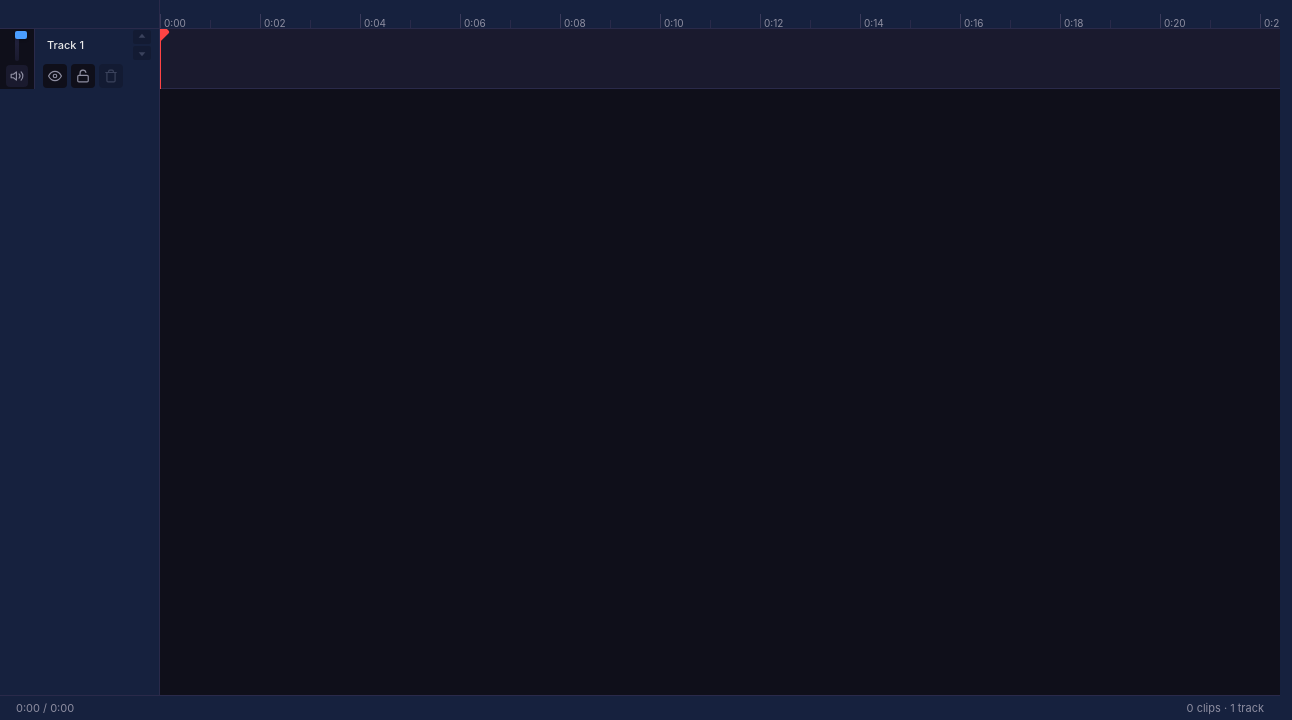
Test case: Timeline - track controls › shows correct mute button state
Check: the 3rd icon is shown, box [10, 69, 24, 83]
Click the button titled "Mute": click(17, 76) [6, 65, 28, 87]
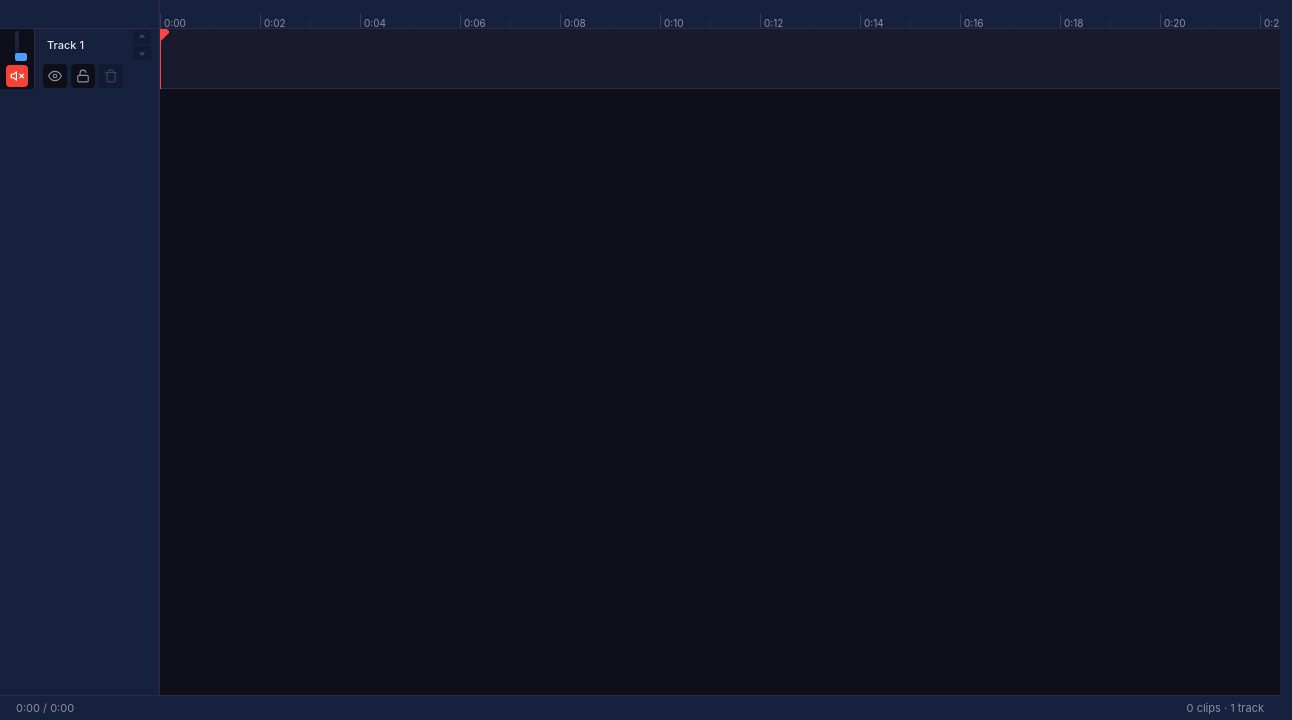
Check: the button titled "Unmute" is shown, box [6, 65, 28, 87]
